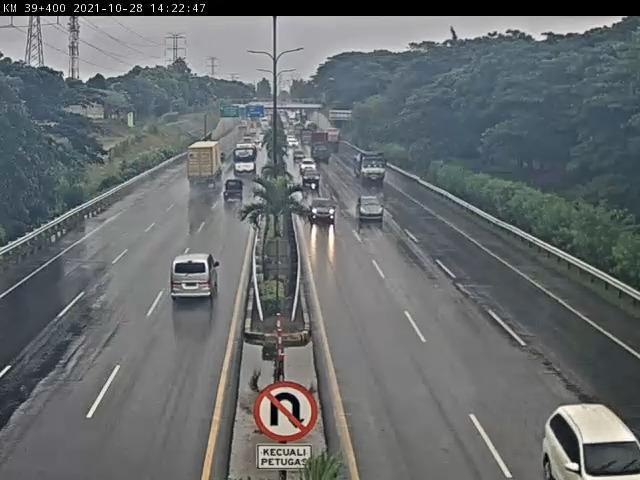bus: (233, 145, 261, 178)
truck: (187, 140, 227, 188), (354, 152, 388, 188)
